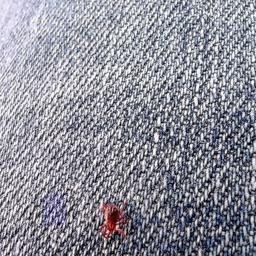Rhipicephalus sanguineus: (97, 201, 128, 238)
